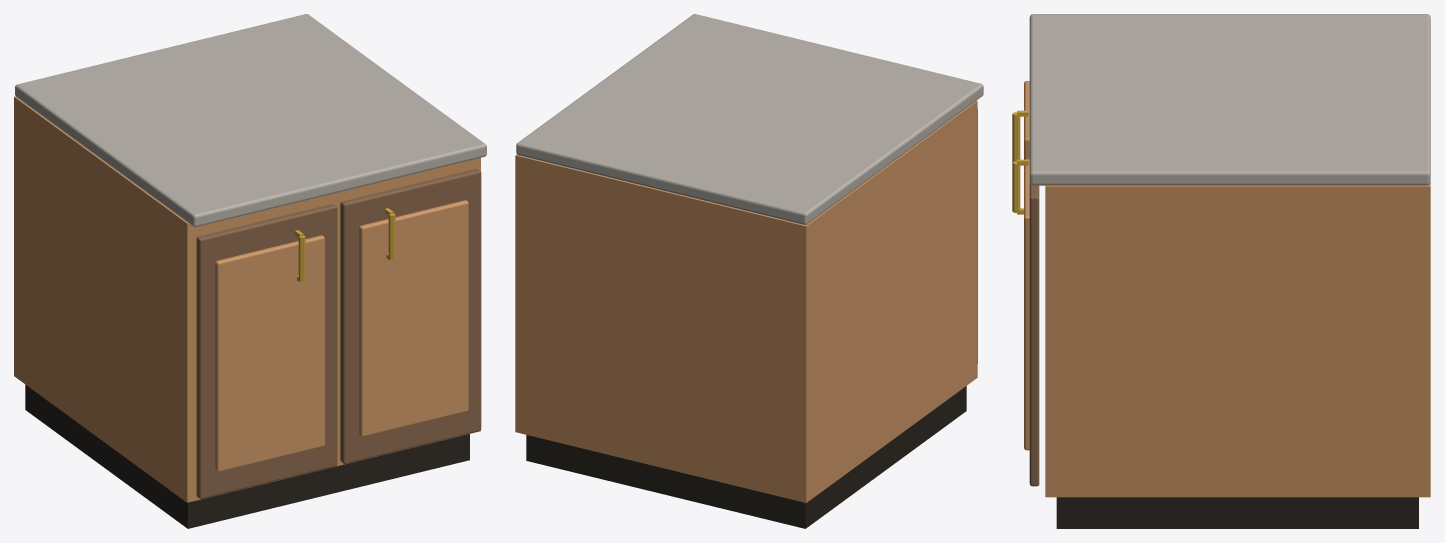
File: counter.glb
The picture shows the model from 3 angles, left to right: view 1: azimuth 30°, elevation 25°; view 2: azimuth 150°, elevation 25°; view 3: azimuth 270°, elevation 25°; orthographic projection. The views are drawn at different scales.
Parts seen in each view (by area): view 1: counter; view 2: counter; view 3: counter.
Boxes of the visible parts, bbox=[...] form: counter: bbox=[14, 14, 486, 528]; counter: bbox=[515, 14, 983, 528]; counter: bbox=[1012, 14, 1430, 528].
Bounding box in the file's own units: 0.98 × 1.03 × 1.08.
